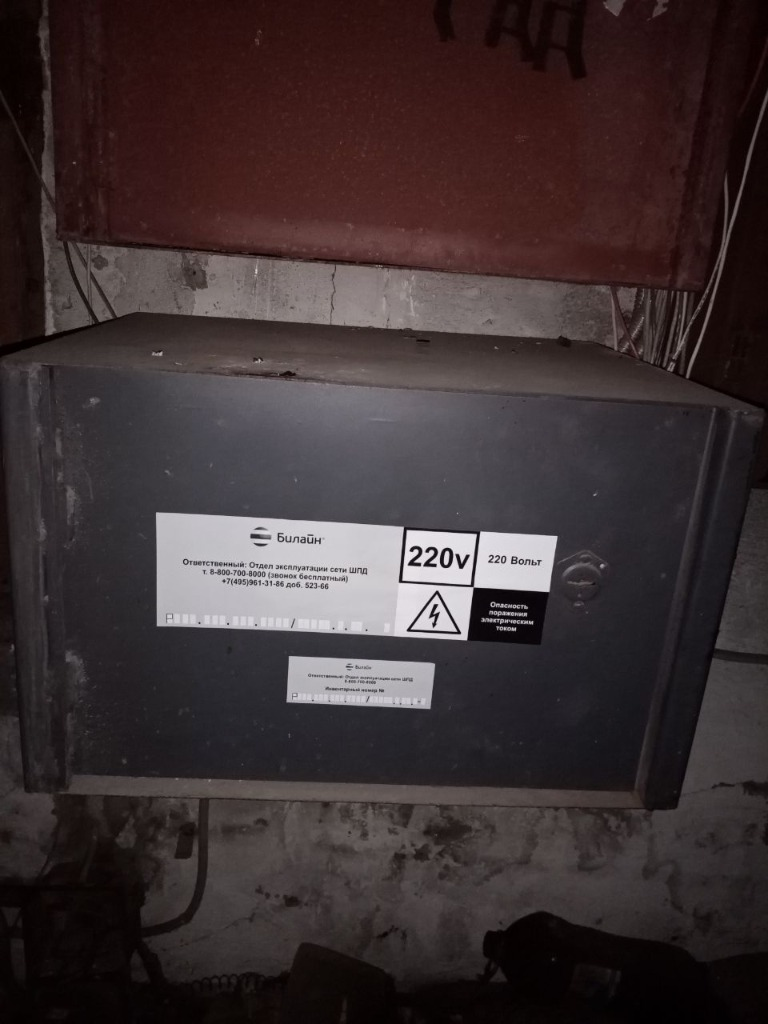e2-6u: (2, 308, 761, 827)
